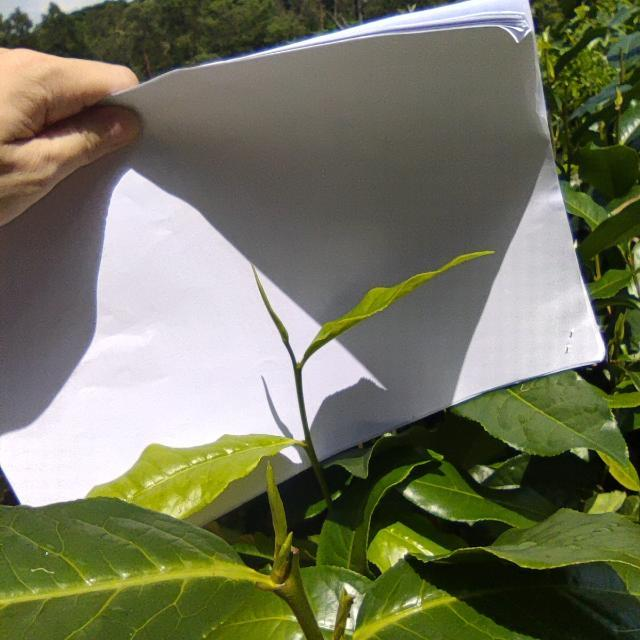Stem: (294, 366, 301, 375)
